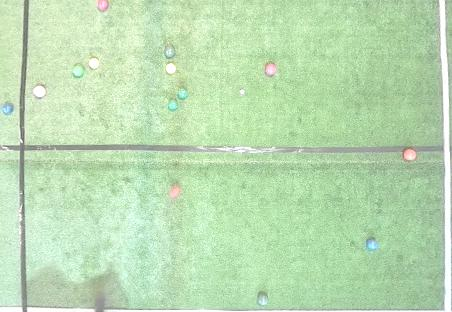blue: (3, 102, 14, 115), (366, 240, 378, 251)
green: (256, 293, 269, 306), (164, 46, 176, 58), (73, 65, 84, 77), (178, 88, 188, 99), (169, 99, 178, 110)
red: (403, 148, 417, 161), (33, 85, 47, 98), (96, 0, 109, 13), (265, 63, 277, 76), (170, 186, 181, 198)
vline: (1, 0, 30, 311), (436, 0, 451, 312)
white: (240, 89, 244, 94)
yellow: (88, 57, 100, 69), (165, 63, 176, 74)
